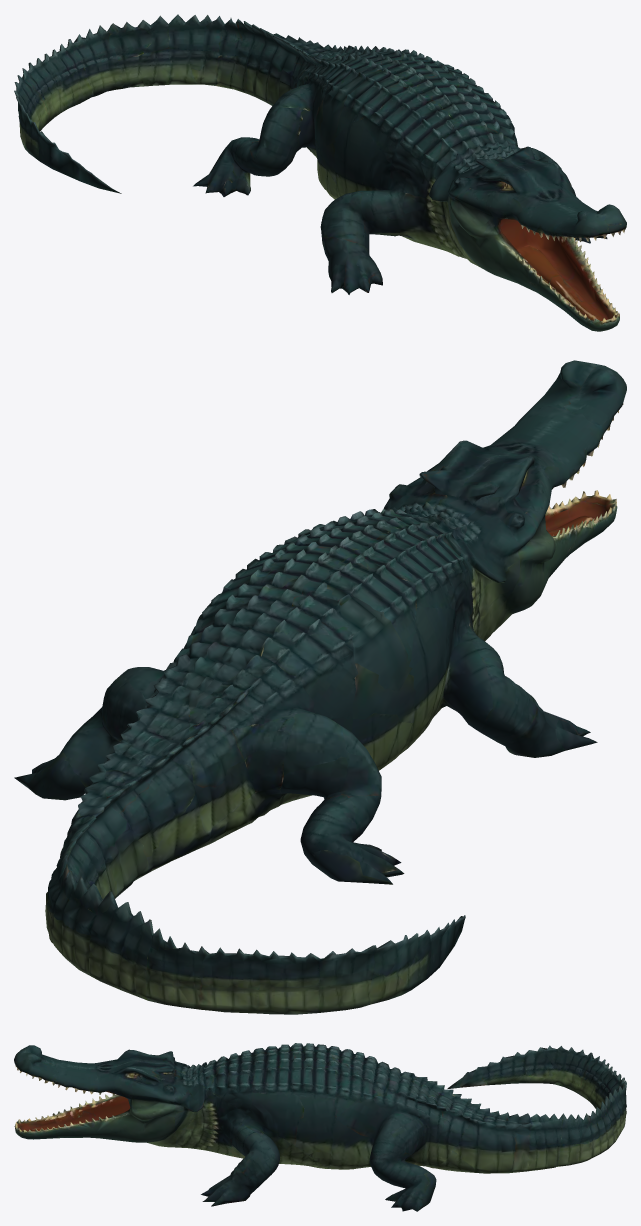
Rendered from crocodile.glb.
The picture shows the model from 3 angles, top to bottom: view 1: azimuth 30°, elevation 25°; view 2: azimuth 150°, elevation 25°; view 3: azimuth 270°, elevation 25°; orthographic projection. The views are drawn at different scales.
Bounding box in the file's own units: 0.9901 × 0.3676 × 1.9.
1 material, 1 textured.
